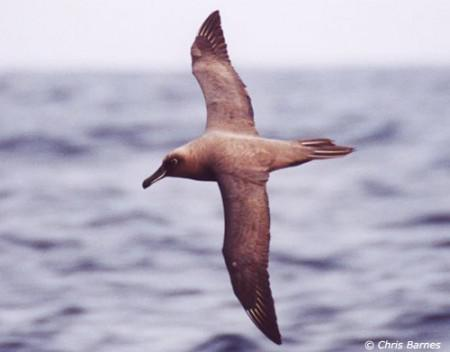003.Sooty_Albatross: (142, 8, 356, 347)
